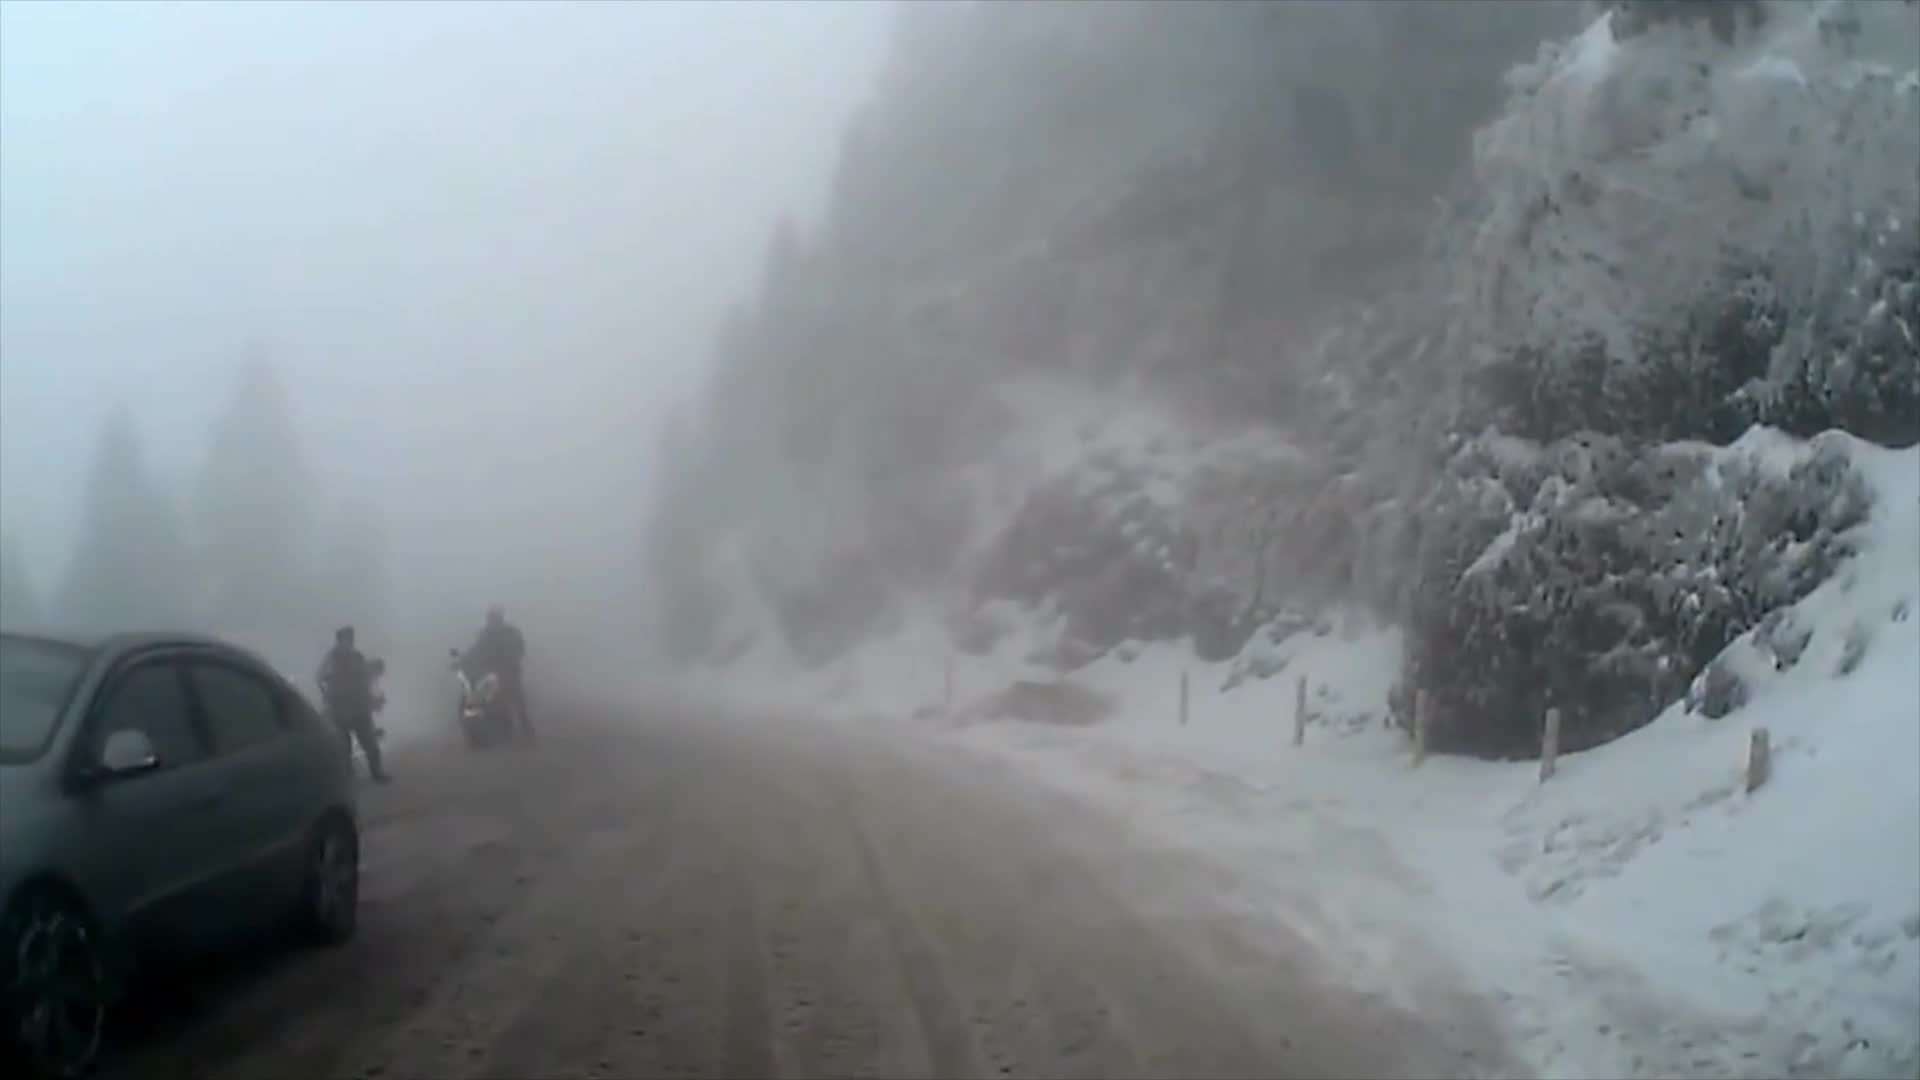pedestrian: (319, 629, 383, 797), (461, 603, 536, 741)
vehicle: (0, 624, 363, 1080)
